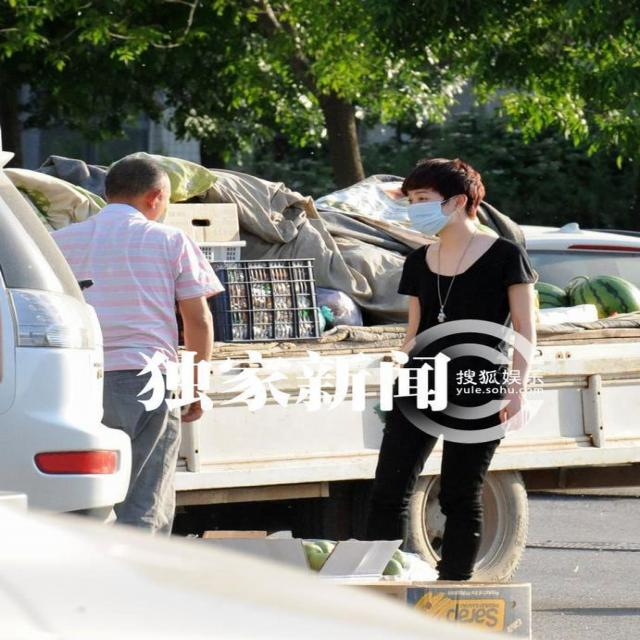mask: (406, 183, 450, 235)
